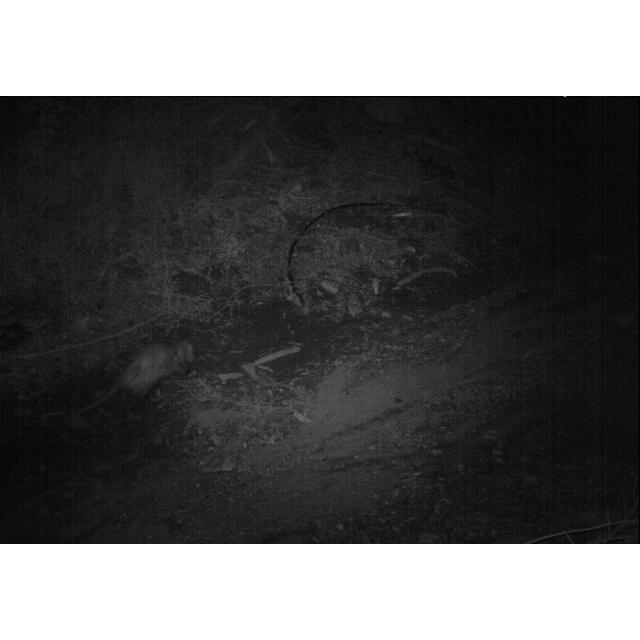animals: (90, 336, 202, 408)
